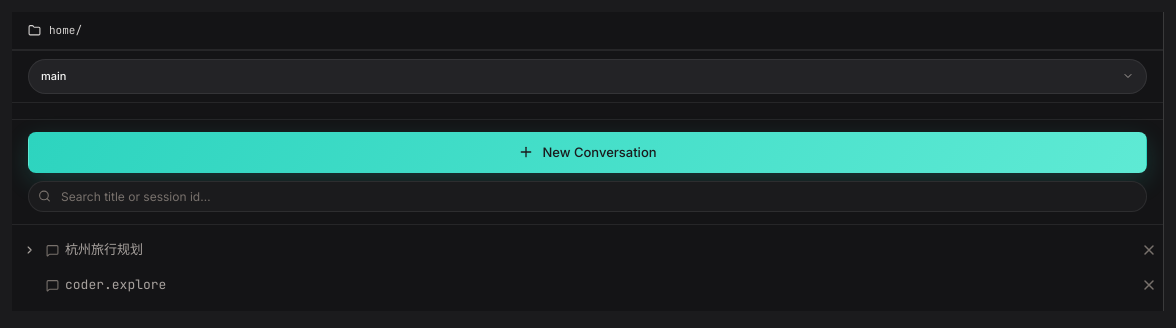
Scenario: Sidebar search (PA-09) › filters by title
This screenshot has width=1176, height=328.
Expected: the text "杭州旅行规划" is shown, [65, 241, 143, 260]
Type "旅行" into the search field labelled "Search" at [588, 196], box [28, 180, 1147, 212]
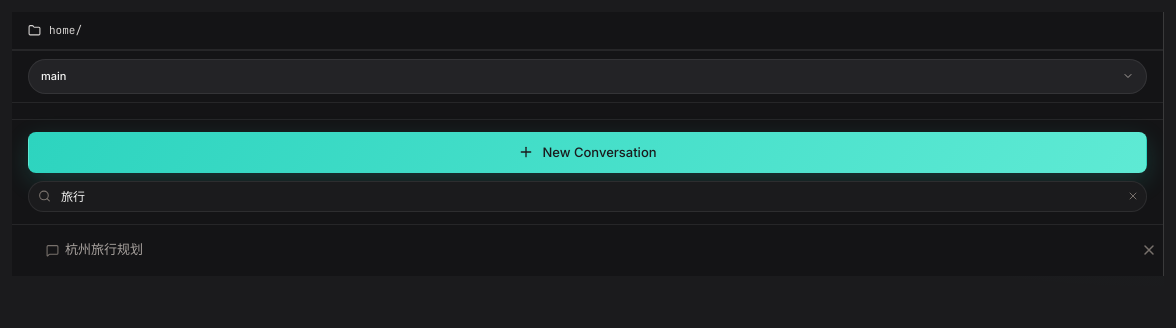
Expected: the text "杭州旅行规划" is shown, [65, 241, 143, 260]
Result: the button "coder.explore" is gone
